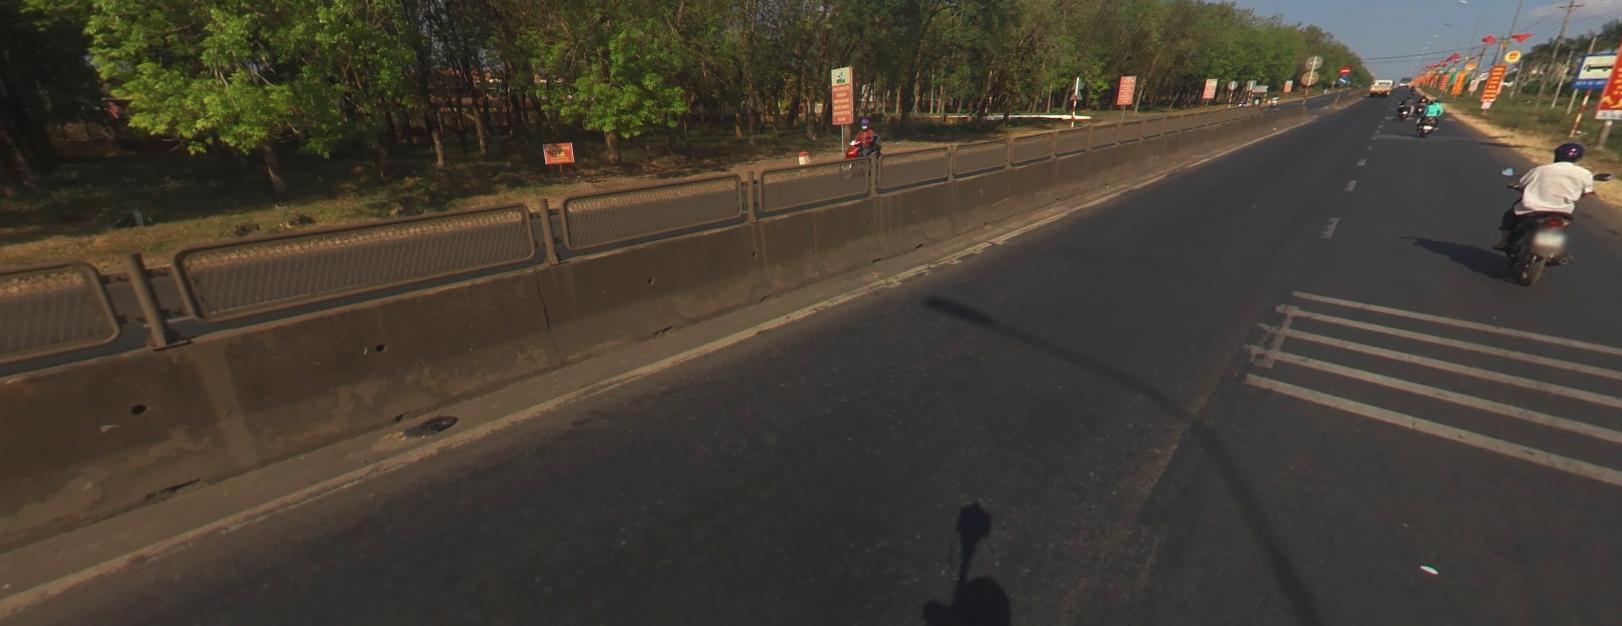Cam nguoc chieu: (1339, 64, 1351, 74)
Hieu lenh: (1337, 75, 1349, 84)
